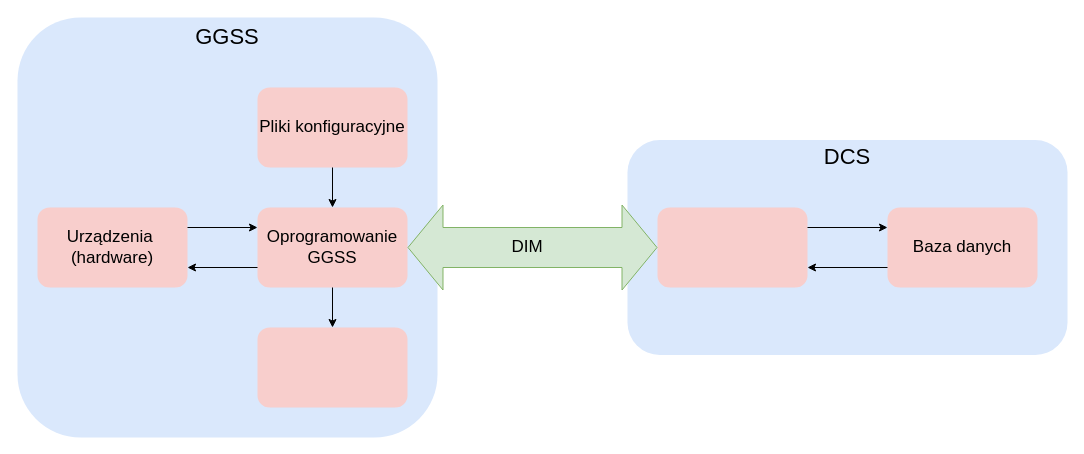
The diagram is 1084 pixels wide and 454 high, and some of its shapes have lost their labels. Each missing label, with the box of its shape:
Pliki wynikowe: (257, 327, 407, 407)
WinCC OA: (657, 207, 807, 287)
